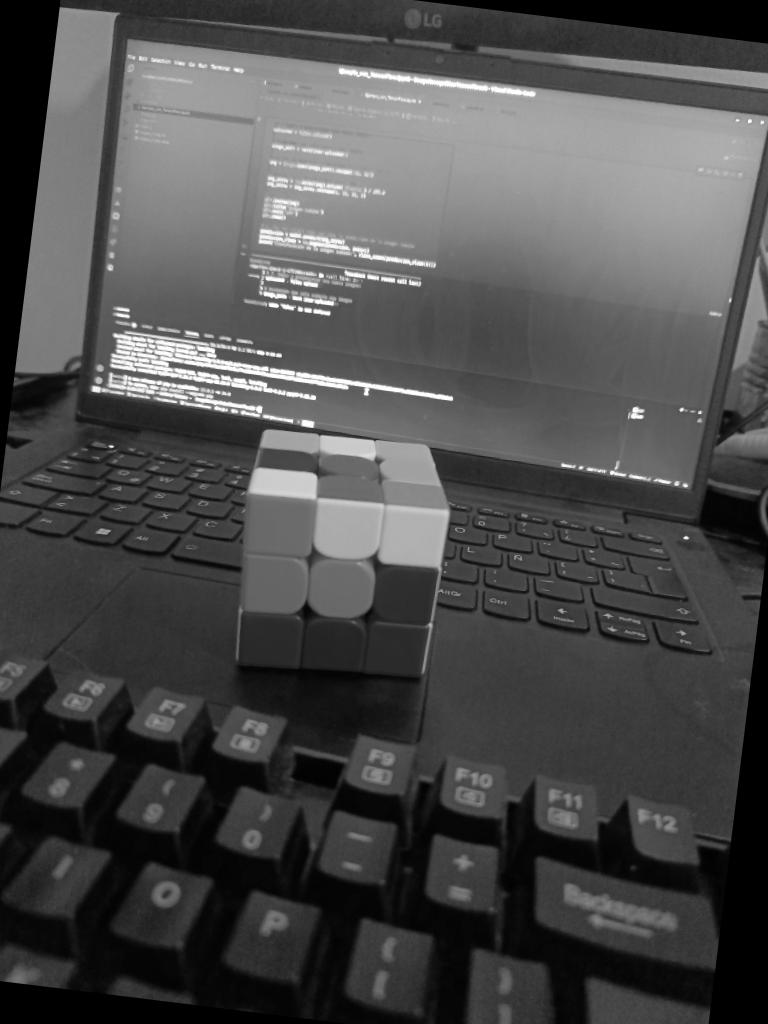rubik: (222, 420, 459, 688)
